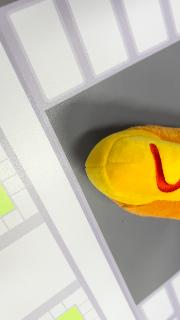hotdog: (84, 124, 180, 220)
